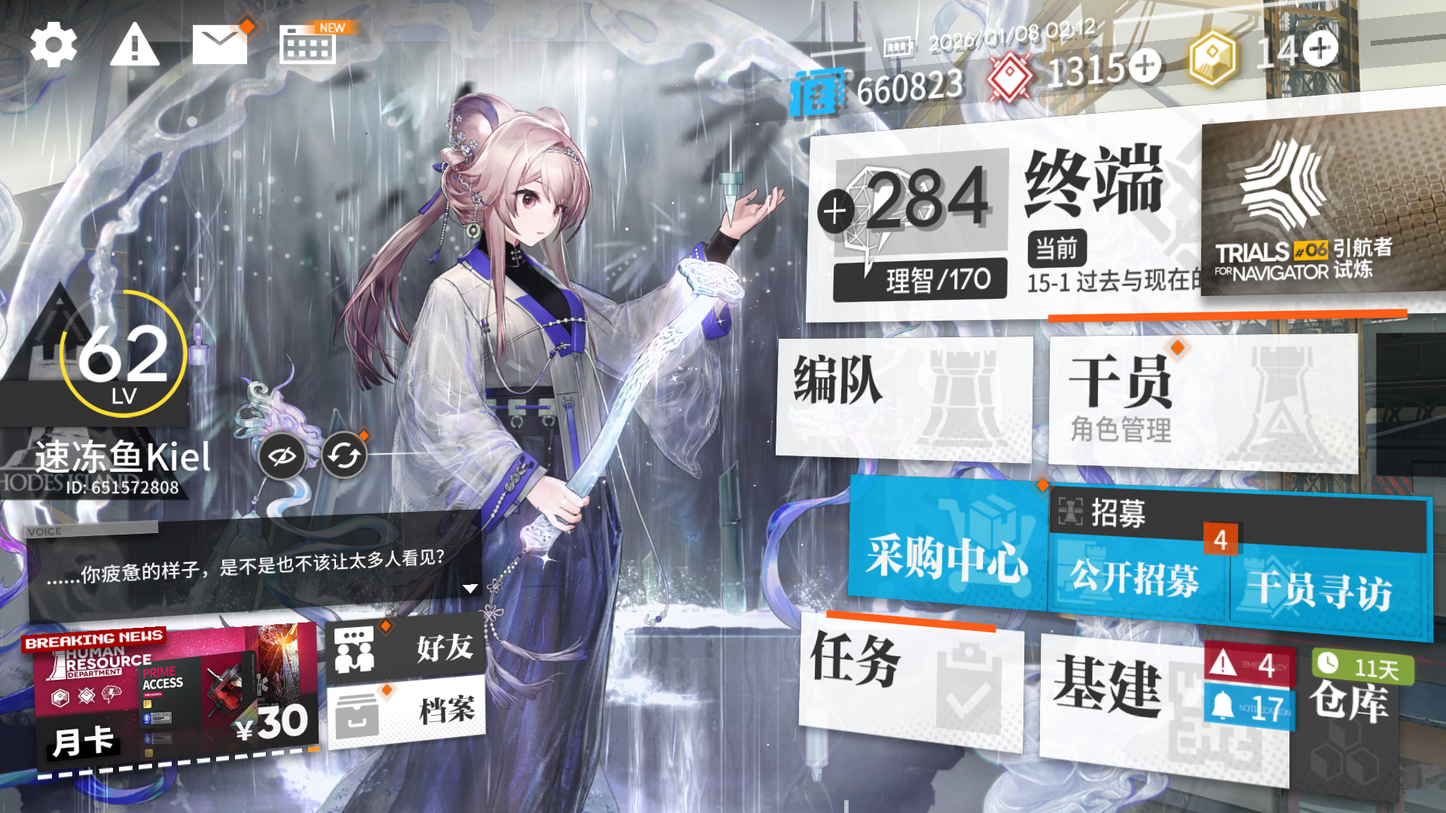home_button: (1017, 127, 1173, 227)
infrastructure_button: (1062, 630, 1258, 773)
